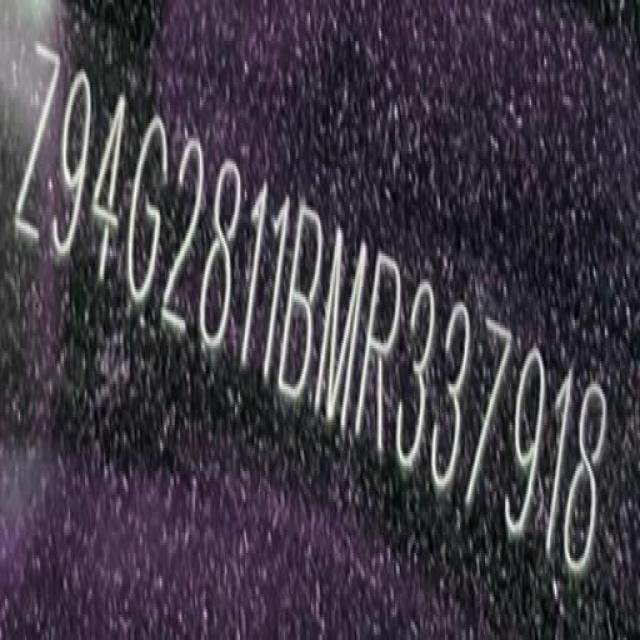1: (544, 355, 579, 572), (238, 179, 269, 368), (260, 190, 290, 377)
2: (157, 116, 213, 354)
3: (392, 257, 443, 498), (428, 280, 478, 518)
4: (83, 80, 141, 302)
7: (466, 313, 514, 506)
8: (197, 139, 250, 372), (564, 368, 613, 582)
9: (44, 65, 103, 273), (506, 332, 554, 558)
B: (274, 189, 334, 422)
G: (118, 99, 174, 321)
M: (311, 209, 373, 452)
R: (354, 232, 410, 473)
Z: (4, 28, 68, 266)
